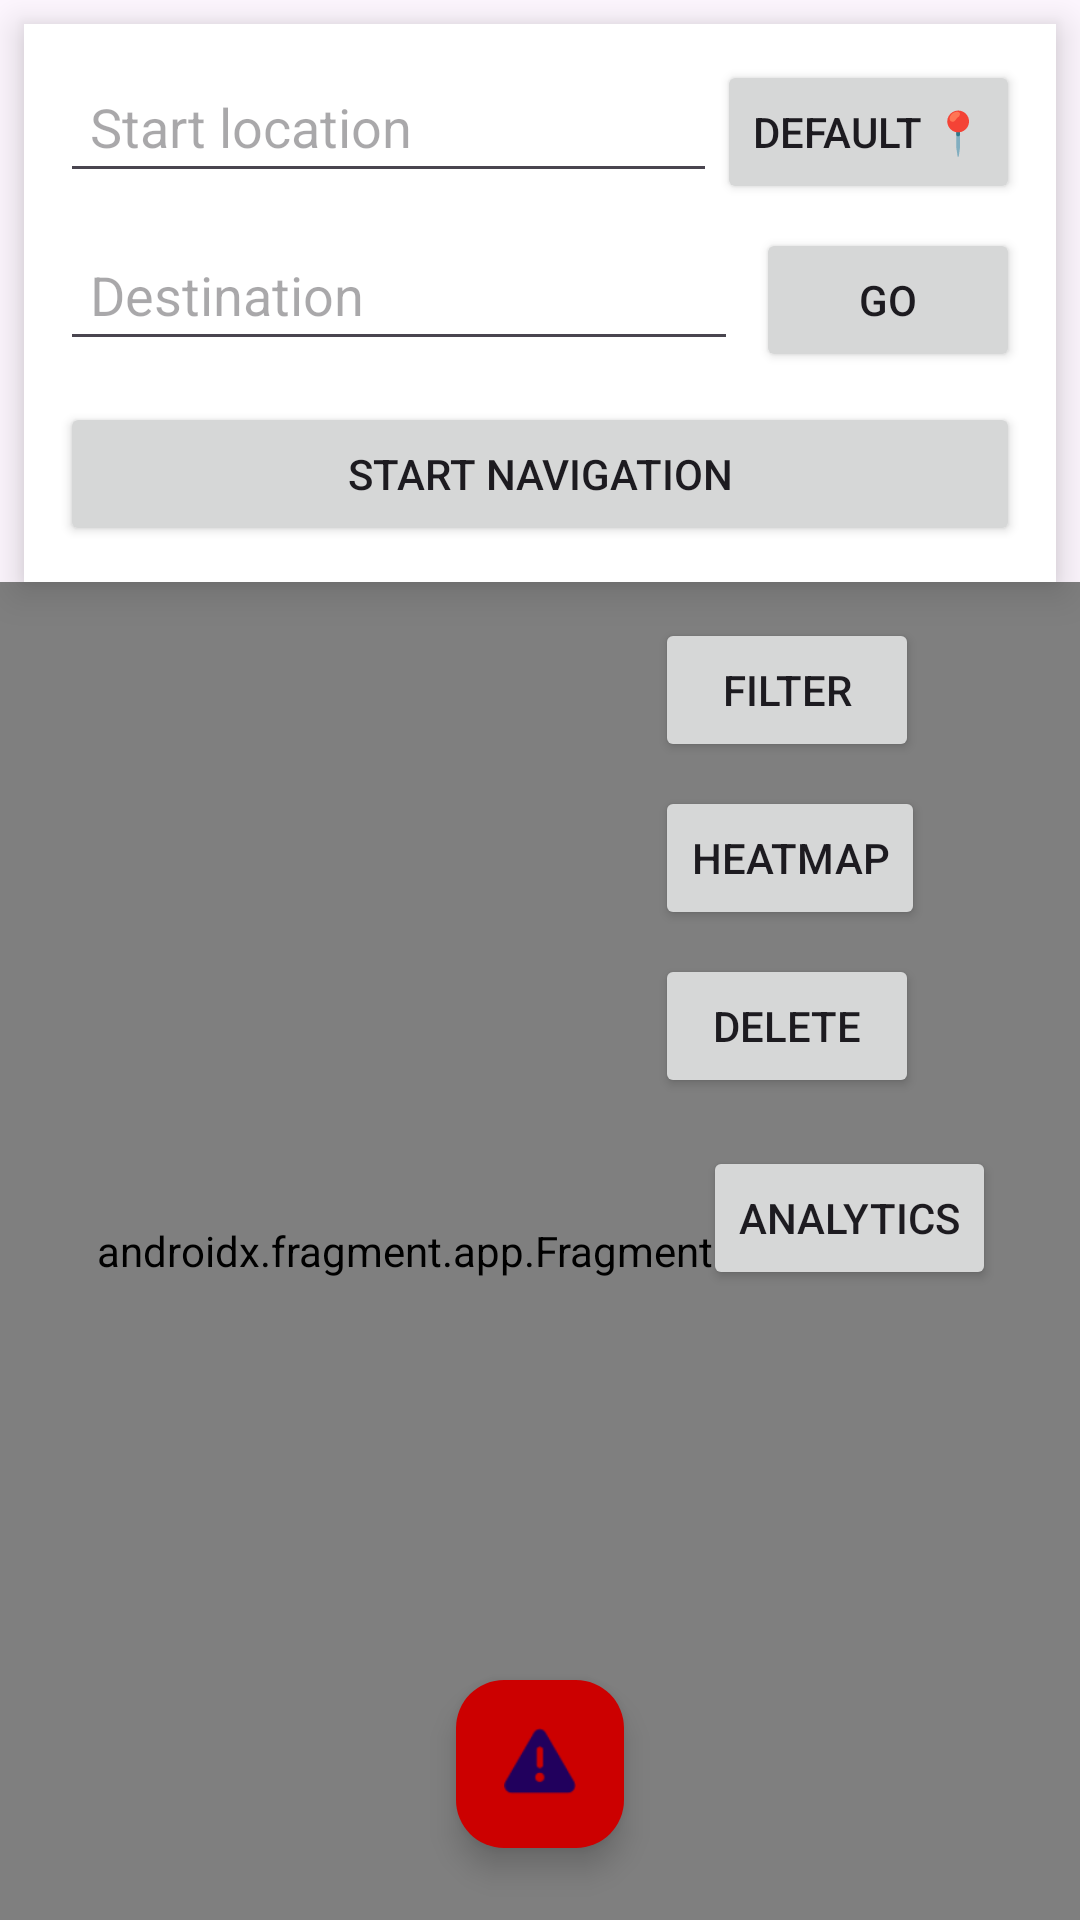

Icons on this 1080w x 1920h Android screen, each with its box as bbox=(x1, y1, x2, y2):
Report Issue: bbox=(456, 1680, 624, 1848)
